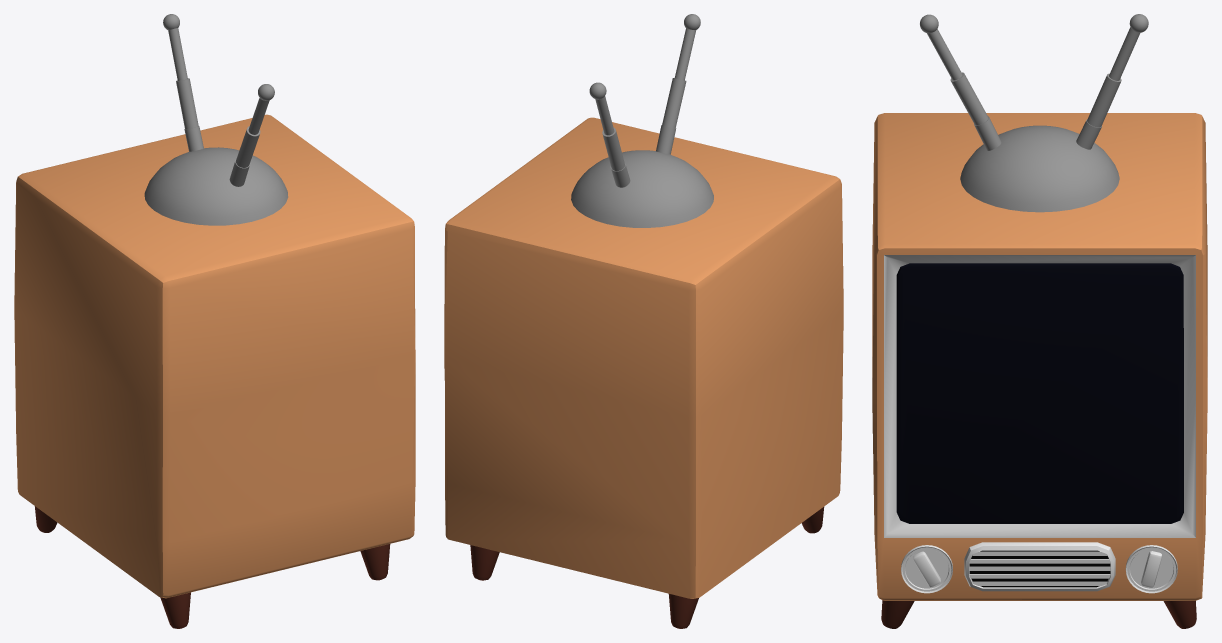
3 views of the same model, side by side, from view 1: azimuth 30°, elevation 25°; view 2: azimuth 150°, elevation 25°; view 3: azimuth 270°, elevation 25° (orthographic). The views are drawn at different scales.
Parts seen in each view (by area): view 1: Cube; view 2: Cube; view 3: Cube.
Part boxes in pixels (x1=…): Cube: x1=14, y1=14, x2=415, y2=628; Cube: x1=444, y1=14, x2=843, y2=628; Cube: x1=872, y1=14, x2=1207, y2=628.
Bounding box in the file's own units: 4.04 × 7.48 × 4.05.
